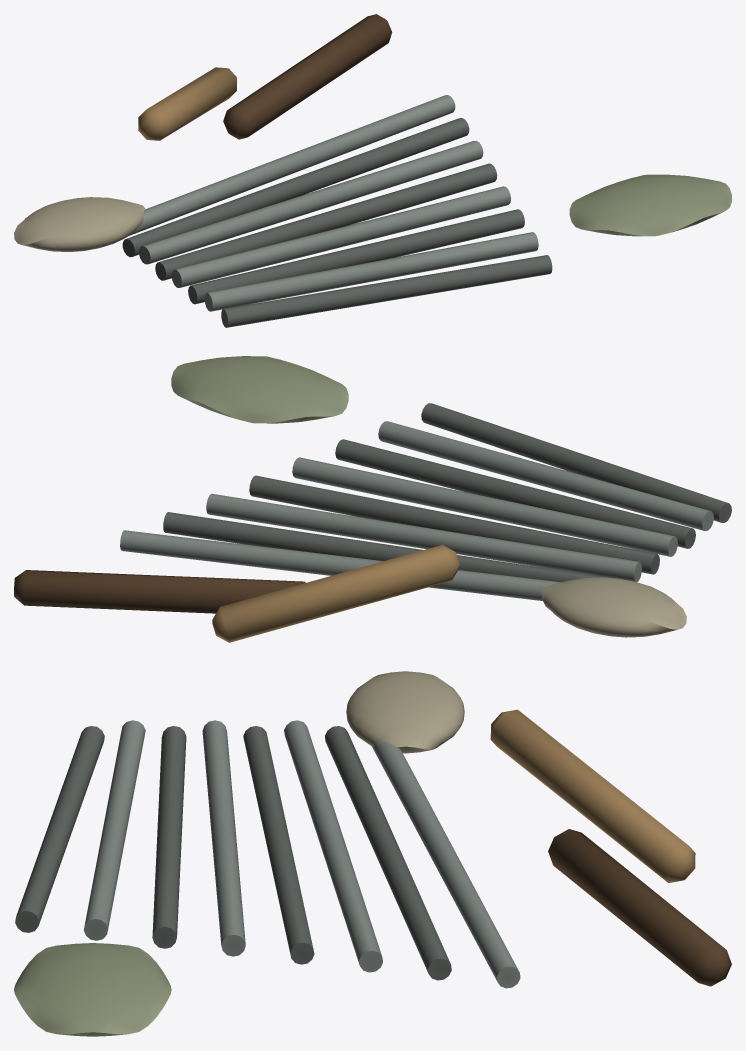
Rendered from drill_steels_b.glb.
The picture shows the model from 3 angles, top to bottom: view 1: azimuth 30°, elevation 25°; view 2: azimuth 150°, elevation 25°; view 3: azimuth 270°, elevation 25°; orthographic projection. The views are drawn at different scales.
Visible parts, largest first — view 1: Surface; view 2: Surface; view 3: Surface.
Boxes of the visible parts, left/top/right/bottom form: Surface: left=14, top=14, right=731, bottom=327; Surface: left=14, top=356, right=731, bottom=642; Surface: left=14, top=671, right=731, bottom=1036.
Bounding box in the file's own units: 2.75 × 0.3346 × 2.3.
